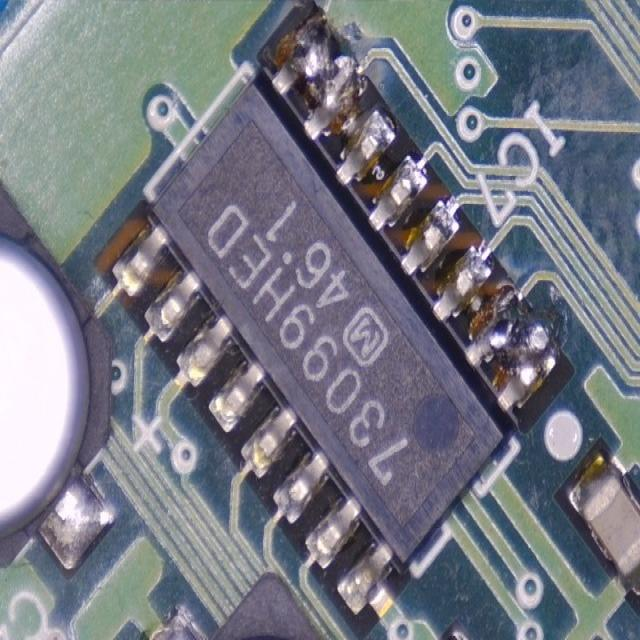Short_circuit: (464, 285, 561, 412), (272, 9, 366, 140)
